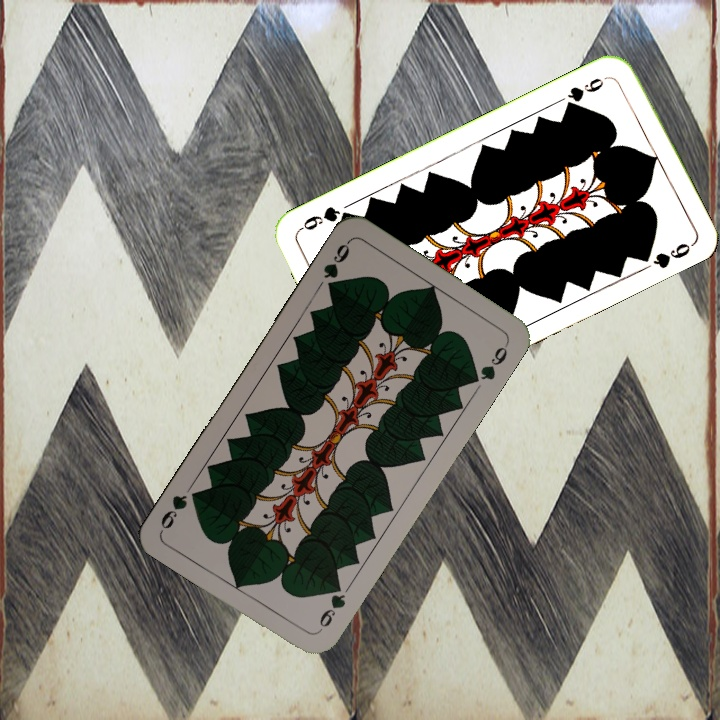G9: (319, 237, 353, 295), (314, 577, 348, 635), (561, 73, 607, 112)
